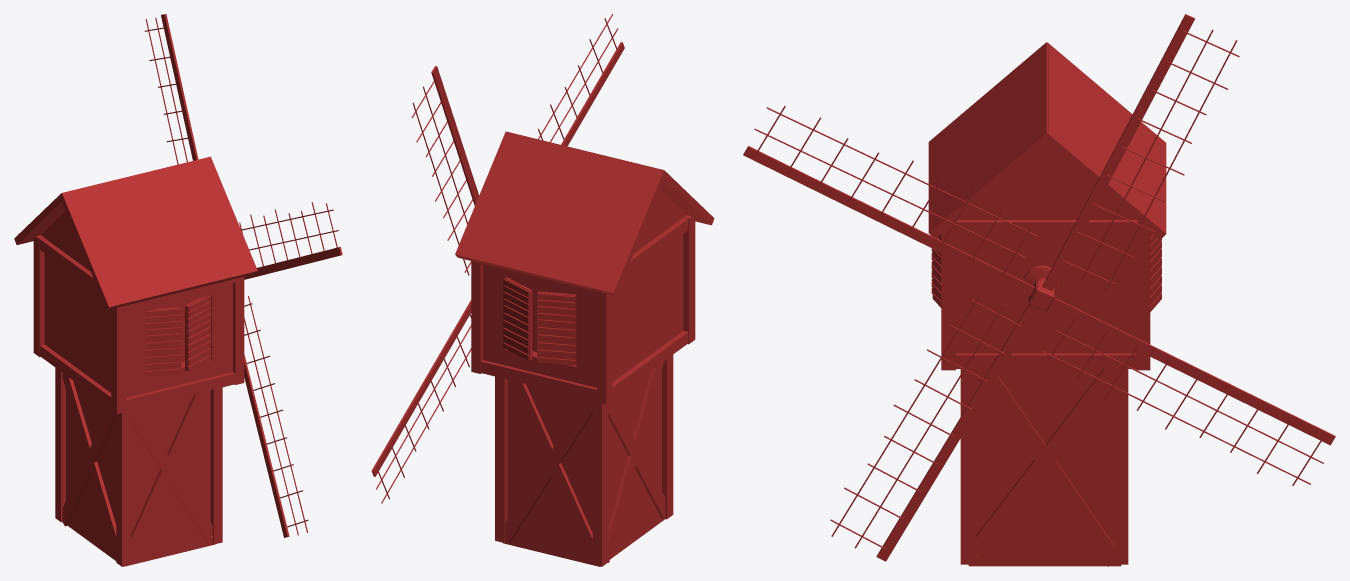
The model's file is House 5 top.fbx.
The picture shows the model from 3 angles, left to right: view 1: azimuth 30°, elevation 25°; view 2: azimuth 150°, elevation 25°; view 3: azimuth 270°, elevation 25°; orthographic projection. The views are drawn at different scales.
Visible parts, largest first — view 1: polySurface83; view 2: polySurface83; view 3: polySurface83.
Part boxes in pixels (<box>): polySurface83: <box>14,14,342,566</box>; polySurface83: <box>371,14,714,566</box>; polySurface83: <box>743,14,1335,566</box>.
Bounding box in the file's own units: 10.37 × 27.45 × 25.67.
